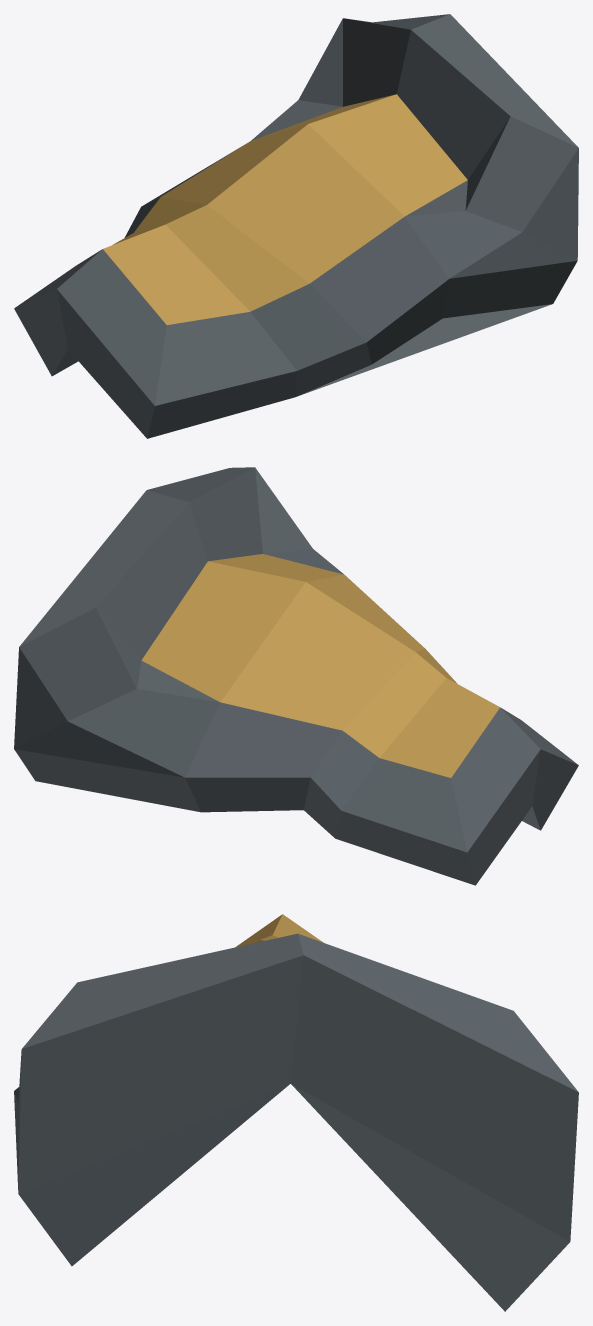
The model's file is Chr_ShoulderAttachRight_13_Static.fbx.
3 views of the same model, one above another, from view 1: azimuth 30°, elevation 25°; view 2: azimuth 150°, elevation 25°; view 3: azimuth 270°, elevation 25° (orthographic). The views are drawn at different scales.
Parts seen in each view (by area): view 1: Chr_ShoulderAttachRight_13_Static; view 2: Chr_ShoulderAttachRight_13_Static; view 3: Chr_ShoulderAttachRight_13_Static.
Part boxes in pixels (x1=…): Chr_ShoulderAttachRight_13_Static: x1=14, y1=14, x2=578, y2=438; Chr_ShoulderAttachRight_13_Static: x1=14, y1=467, x2=578, y2=885; Chr_ShoulderAttachRight_13_Static: x1=14, y1=914, x2=578, y2=1311.
Size of the model in its own units: 0.2934 by 0.1932 by 0.2494.
